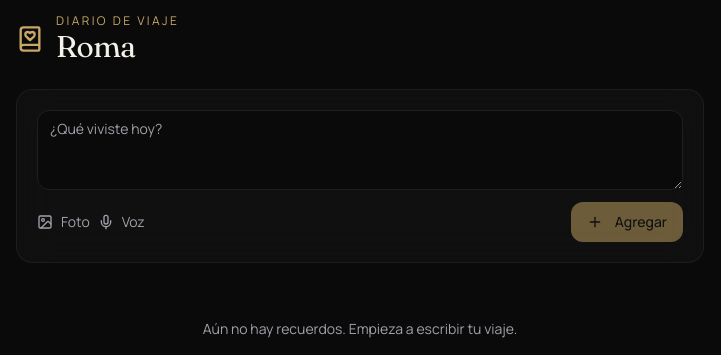
Test: nota de voz en el diario (grabación + transcripción en el servidor) › se detiene sola a los 2 minutos
Later steps or results of the test are not shown.
Check: the heading "Roma" is shown, box [56, 28, 136, 65]
Click the button with aria-label "Grabar nota de voz" at (121, 222), box [98, 212, 145, 232]
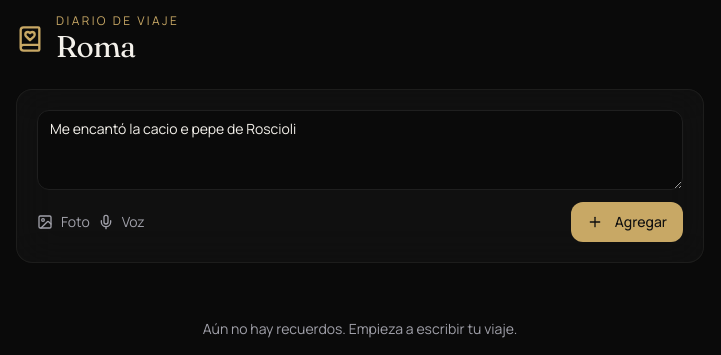
Check: the text box named "Entrada del diario" holds "Me encantó la cacio e pepe de Roscioli", box [37, 110, 683, 190]
